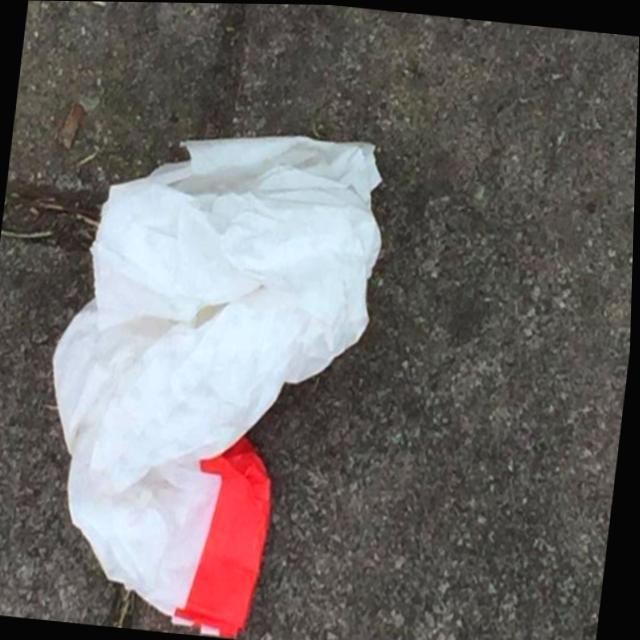Paper: (21, 109, 394, 640)
